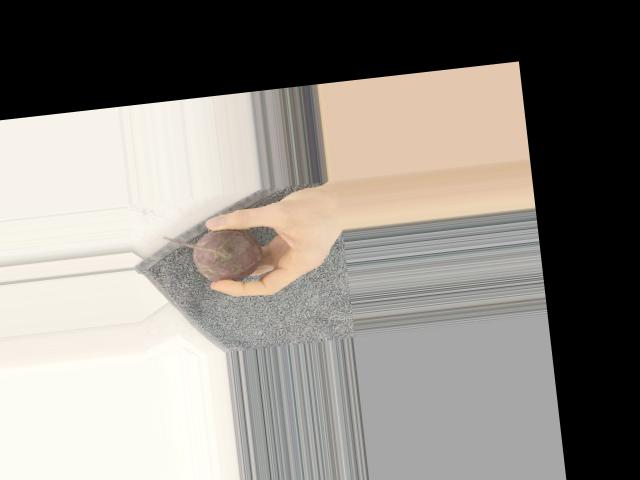beet: (162, 225, 264, 288)
